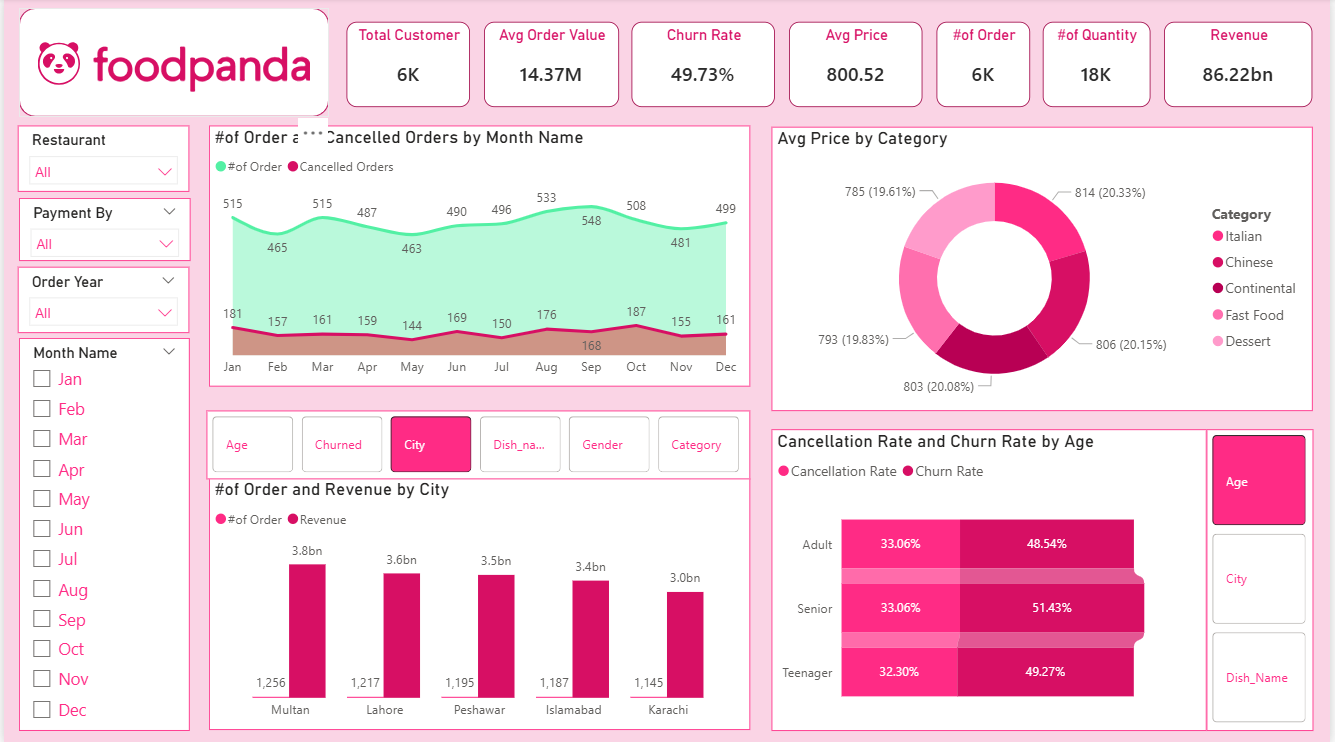

Layout of this report page (visuals, bound fields, positions):
{"tool":"powerbi","page":{"name":"Order & Revenue","canvas":[1280,720],"ordinal":0},"visuals":[{"type":"cardVisual","title":"Total Customer","fields":{"Data":["_DAX.#of Customer"]},"box":[14.7,13.5,134.6,90.6],"z":0},{"type":"cardVisual","title":"#of Order","fields":{"Data":["_DAX.#of Order"]},"box":[762.1,13.5,131,90.6],"z":1000},{"type":"cardVisual","title":"#of Quantity","fields":{"Data":["_DAX.#of Quantity"]},"box":[915.9,13.5,137.1,90.6],"z":2000},{"type":"cardVisual","title":"Revenue","fields":{"Data":["_DAX.Revenue"]},"box":[1075.8,13.5,187.3,90.6],"z":3000},{"type":"cardVisual","title":"Avg Order Value","fields":{"Data":["_DAX.#of Avg Order Value"]},"box":[172.2,13.5,173.8,90.6],"z":4000},{"type":"cardVisual","title":"Avg Price","fields":{"Data":["_DAX.Avg Price"]},"box":[569.1,13.5,170.1,90.6],"z":5000},{"type":"areaChart","fields":{"Category":["DimDate.Month Name"],"Y":["_DAX.#of Order","_DAX.Cancelled Orders"]},"box":[198.3,123.6,522.6,252.1],"z":6000},{"type":"clusteredColumnChart","fields":{"Category":["Foodpanda Analysis Dataset.City"],"Y":["_DAX.#of Order","_DAX.Revenue"]},"box":[198.3,463.9,522.6,243.6],"z":7000},{"type":"barChart","fields":{"Category":["Foodpanda Analysis Dataset.Age"],"Y":["_DAX.Cancellation Rate","_DAX.Churn Rate"]},"box":[740.5,416.1,419.8,291.3],"z":8000},{"type":"donutChart","fields":{"Category":["Foodpanda Analysis Dataset.category"],"Y":["_DAX.Avg Price"]},"box":[740.8,123.9,522,274.1],"z":9000},{"type":"slicer","fields":{"Values":["DimDate.Year"]},"box":[13.5,259.1,165.2,63.6],"z":10000},{"type":"slicer","fields":{"Values":["DimDate.Month Name"]},"box":[14.6,328.1,164.8,379.1],"z":11000},{"type":"slicer","fields":{"Values":["Foodpanda Analysis Dataset.restaurant_name"]},"box":[13.5,123.6,165.2,63.6],"z":12000},{"type":"cardVisual","title":"Churn Rate","fields":{"Data":["_DAX.Churn Rate"]},"box":[368.8,11,177.5,93],"z":13000},{"type":"advancedSlicerVisual","fields":{"Values":["Category.Category"]},"box":[195.8,397.8,525.1,66.1],"z":14000},{"type":"advancedSlicerVisual","fields":{"Values":["Parameter.Parameter"]},"box":[1160.3,416.1,102.8,291.3],"z":15000},{"type":"slicer","fields":{"Values":["Foodpanda Analysis Dataset.payment_method"]},"box":[14.7,192.6,165.2,61.2],"z":15001}]}

Visuals, with their boxes in screenshot pixels (x1, y1, x2, y2), scaled from the page's 1280x720 canvas onto the 1335x742 screenshot:
"Total Customer" cardVisual: crop(15, 14, 156, 107)
"#of Order" cardVisual: crop(795, 14, 931, 107)
"#of Quantity" cardVisual: crop(955, 14, 1098, 107)
"Revenue" cardVisual: crop(1122, 14, 1317, 107)
"Avg Order Value" cardVisual: crop(180, 14, 361, 107)
"Avg Price" cardVisual: crop(594, 14, 771, 107)
areaChart - DimDate.Month Name x _DAX.#of Order: crop(207, 127, 752, 387)
clusteredColumnChart - Foodpanda Analysis Dataset.City x _DAX.#of Order: crop(207, 478, 752, 729)
barChart - Foodpanda Analysis Dataset.Age x _DAX.Cancellation Rate: crop(772, 429, 1210, 729)
donutChart - Foodpanda Analysis Dataset.category x _DAX.Avg Price: crop(773, 128, 1317, 410)
slicer - DimDate.Year: crop(14, 267, 186, 333)
slicer - DimDate.Month Name: crop(15, 338, 187, 729)
slicer - Foodpanda Analysis Dataset.restaurant_name: crop(14, 127, 186, 193)
"Churn Rate" cardVisual: crop(385, 11, 570, 107)
advancedSlicerVisual - Category.Category: crop(204, 410, 752, 478)
advancedSlicerVisual - Parameter.Parameter: crop(1210, 429, 1317, 729)
slicer - Foodpanda Analysis Dataset.payment_method: crop(15, 198, 188, 262)
